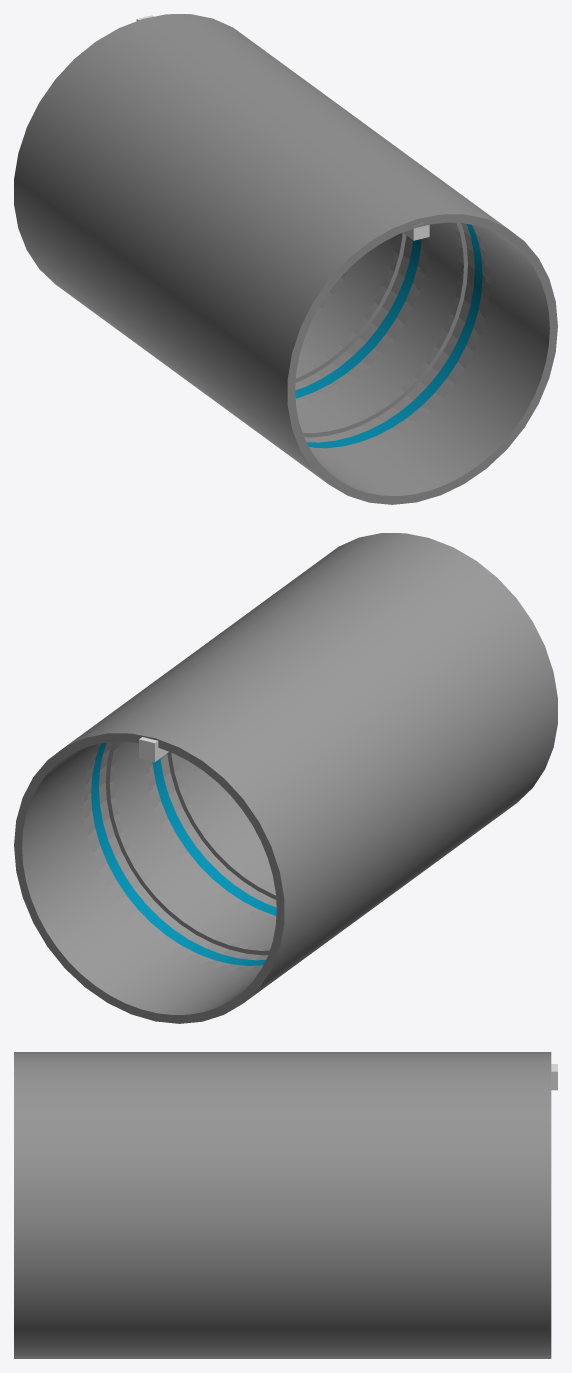
File: Corridoor.FBX
3 renders of one model, top to bottom at view 1: azimuth 30°, elevation 25°; view 2: azimuth 150°, elevation 25°; view 3: azimuth 270°, elevation 25°, orthographic.
Parts seen in each view (by area): view 1: Cylinder001; view 2: Cylinder001; view 3: Cylinder001.
Part boxes in pixels (box(x1,y1,x2,y2)): Cylinder001: box(14, 14, 557, 504); Cylinder001: box(14, 533, 557, 1023); Cylinder001: box(14, 1052, 551, 1358).
Size of the model in its own units: 399 by 400 by 709.
